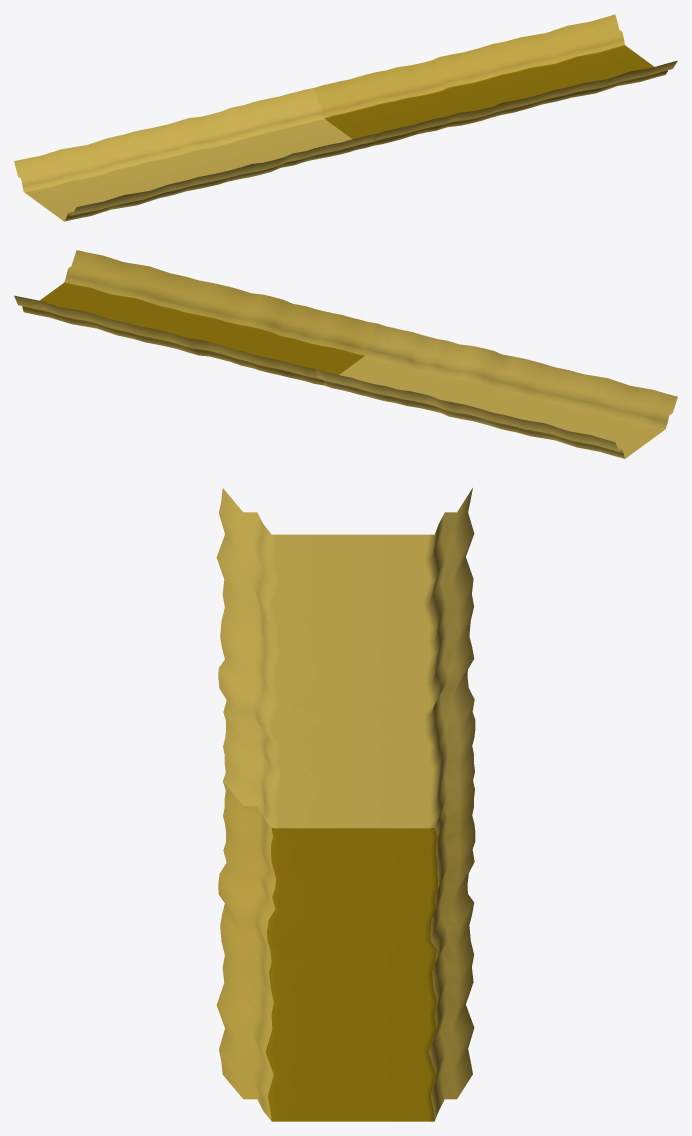
The model's file is main tile.obj.
The picture shows the model from 3 angles, top to bottom: view 1: azimuth 30°, elevation 25°; view 2: azimuth 150°, elevation 25°; view 3: azimuth 270°, elevation 25°; orthographic projection. The views are drawn at different scales.
Visible parts, largest first — view 1: Plane001; view 2: Plane001; view 3: Plane001.
Part boxes in pixels (<box>): Plane001: <box>14,14,677,221</box>; Plane001: <box>14,250,677,458</box>; Plane001: <box>216,488,475,1121</box>.
Bounding box in the file's own units: 400 × 15.14 × 74.55.
